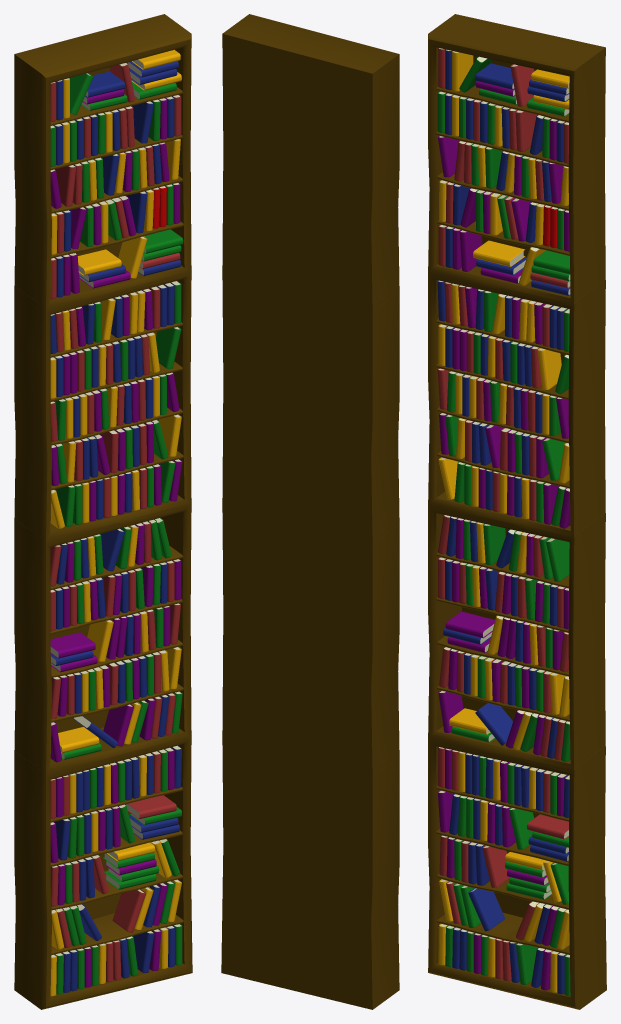
File: bookshelf_b_old.fbx
3 views of the same model, side by side, from view 1: azimuth 30°, elevation 25°; view 2: azimuth 150°, elevation 25°; view 3: azimuth 330°, elevation 25° (orthographic).
Visible parts, largest first — view 1: books, shelf; view 2: shelf; view 3: books, shelf.
Boxes of the visible parts, x1,y1,x2,y2 form: books: [50, 49, 183, 996]; shelf: [14, 14, 192, 1009]; shelf: [221, 14, 399, 1009]; books: [437, 48, 570, 996]; shelf: [428, 14, 606, 1009].
Size of the model in its own units: 94.85 by 563 by 31.41.
